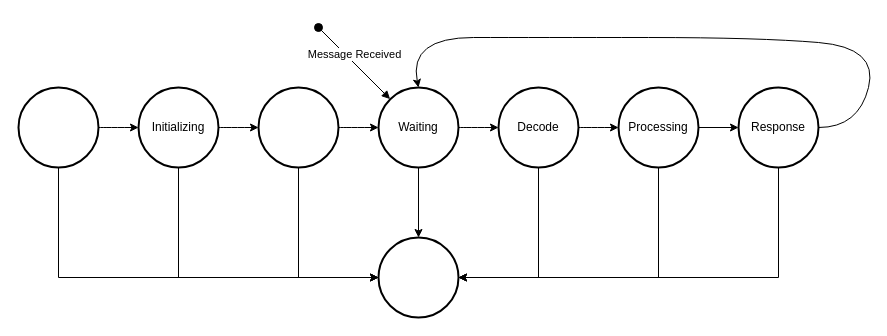
Some shapes in this 887 by 336 pixel diagram are drawn without their labels. The shapes that lost their labels are listed below. From the top down, each one's centre as x and y in pixels, then its label:
At point (58, 127): "Power Up".
At point (298, 127): "Connecting".
At point (418, 277): "Error".
